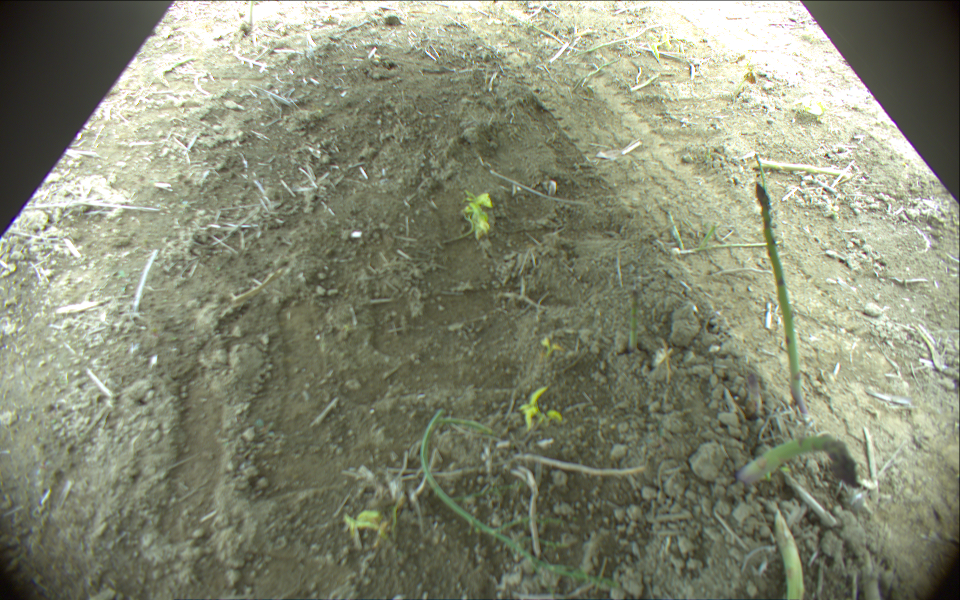aspa: (419, 408, 615, 589), (753, 182, 813, 426), (738, 431, 878, 490), (772, 511, 806, 600), (750, 155, 858, 177), (624, 290, 642, 352)
